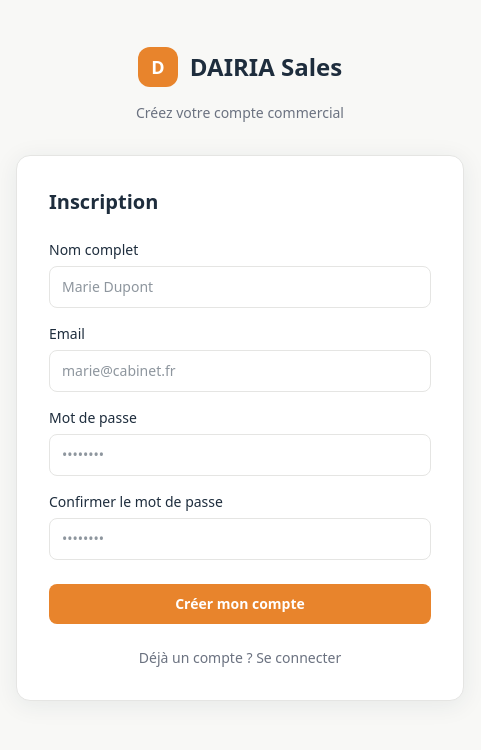
RegisterPage › shows password mismatch error
Type "Test User" into the field labelled "Nom complet" at (240, 287), box [49,266,431,308]
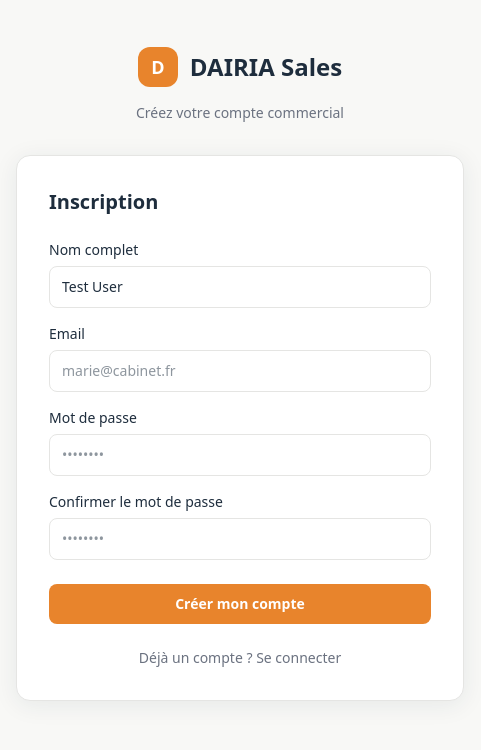
Type "test@example.com" into the field labelled "Email" at (240, 371), box [49,350,431,392]
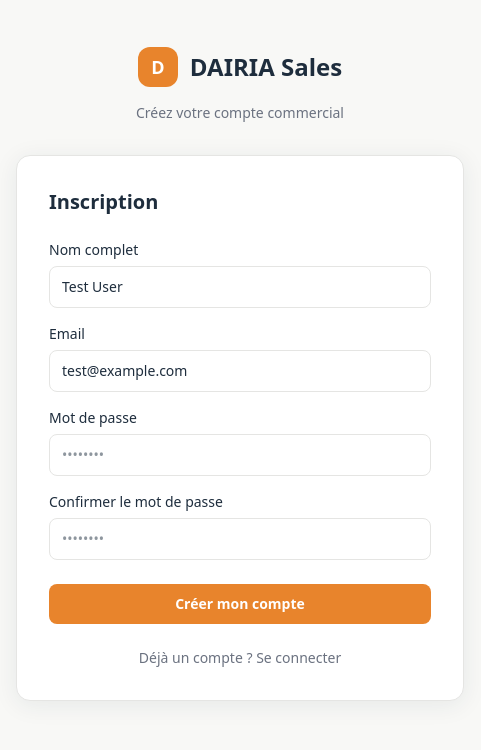
Type "password123" into the password field labelled "Mot de passe" at (240, 455), box [49,434,431,476]
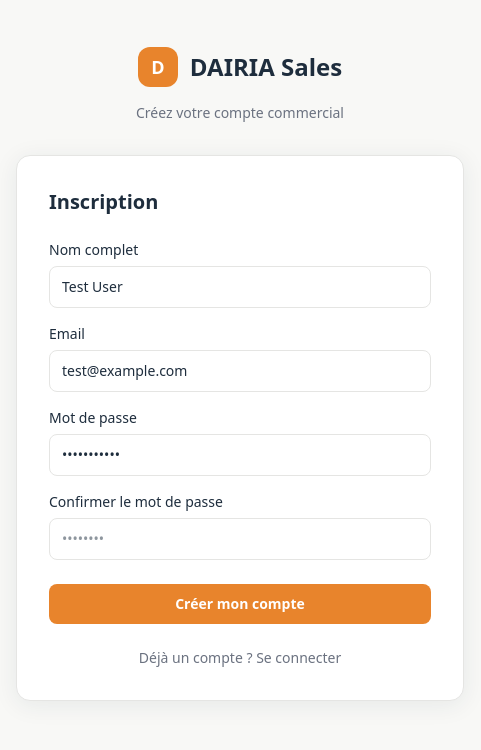
Type "password456" into the password field labelled "Confirmer le mot de passe" at (240, 539), box [49,518,431,560]
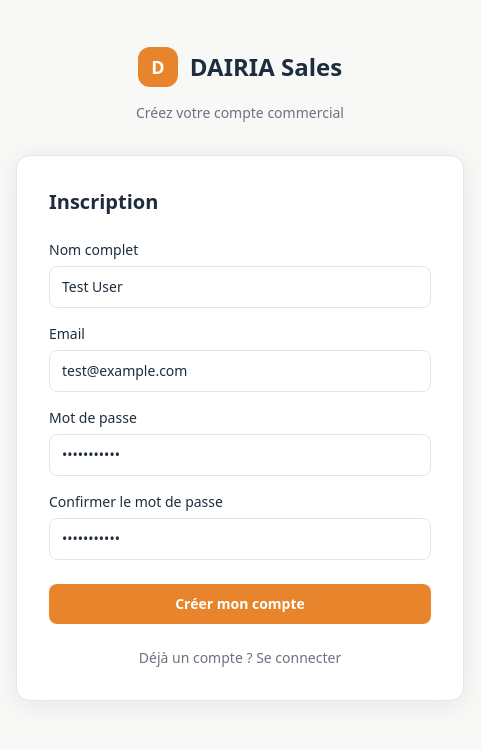
Click the button "Créer mon compte" at (240, 604), box [49,584,431,624]
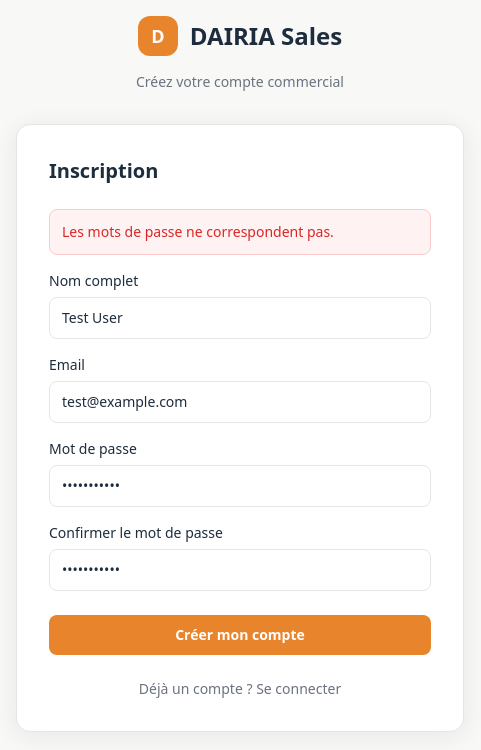
Result: the text "Les mots de passe ne correspondent pas." is shown at [49,209,431,255]
